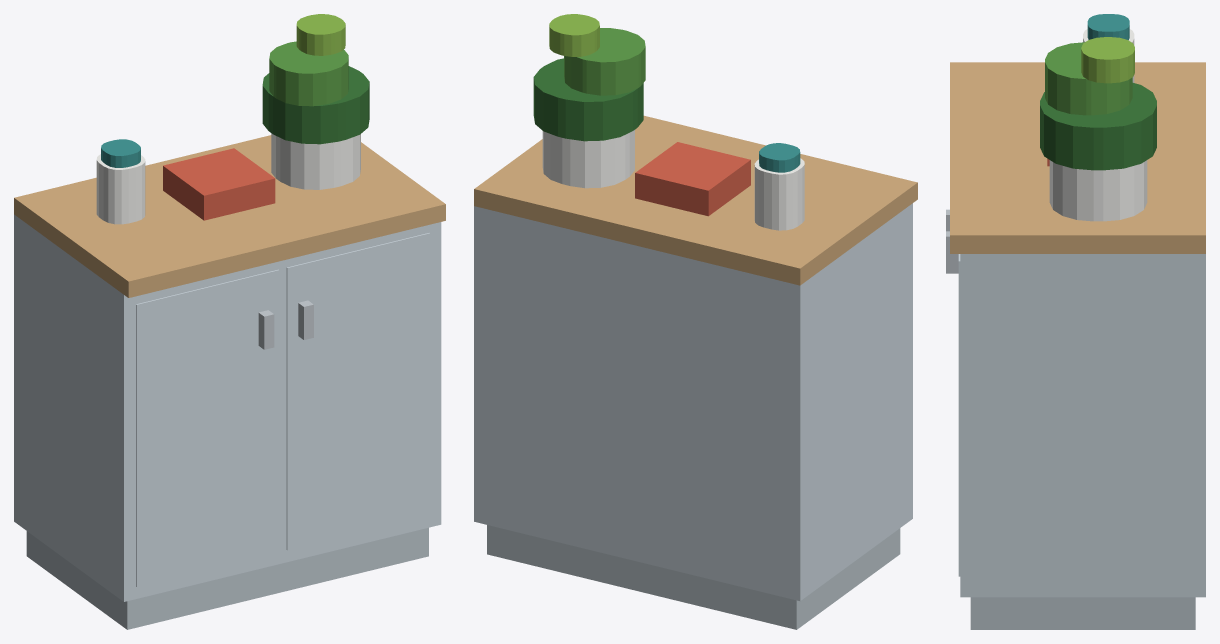
Rendered from bathroom_cabinet.glb.
The picture shows the model from 3 angles, left to right: view 1: azimuth 30°, elevation 25°; view 2: azimuth 150°, elevation 25°; view 3: azimuth 270°, elevation 25°; orthographic projection. The views are drawn at different scales.
Visible parts, largest first — view 1: bathroom_cabinet_Body; view 2: bathroom_cabinet_Body; view 3: bathroom_cabinet_Body.
Boxes of the visible parts, <box> form: bathroom_cabinet_Body: <box>14,14,445,629</box>; bathroom_cabinet_Body: <box>474,14,917,629</box>; bathroom_cabinet_Body: <box>946,14,1205,629</box>.
Size of the model in its own units: 0.8 by 1.2 by 0.508.
